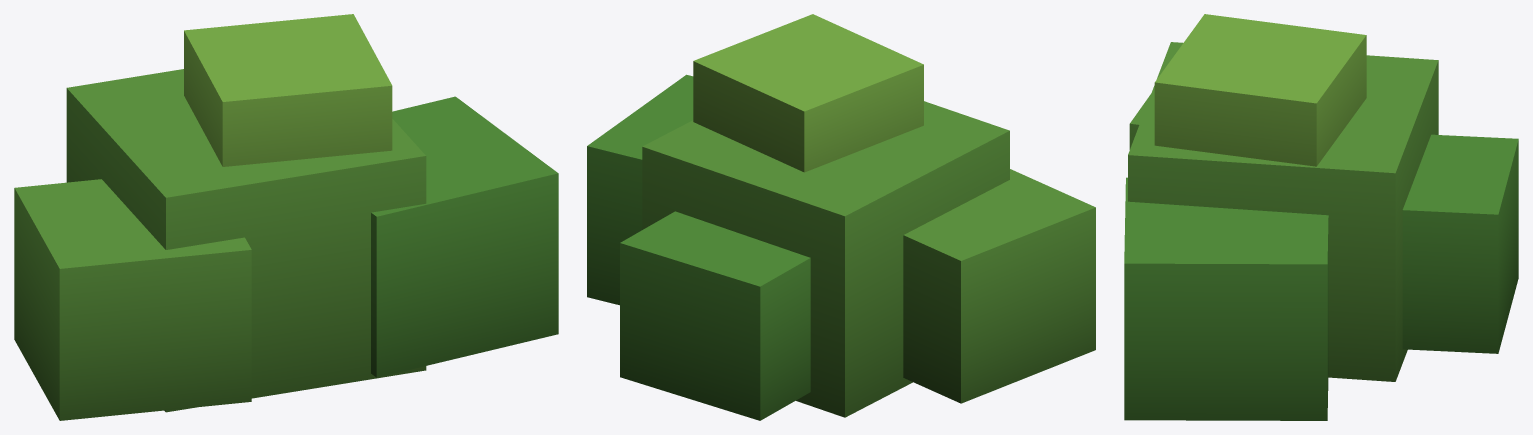
The model's file is B08_bush_round.glb.
The picture shows the model from 3 angles, left to right: view 1: azimuth 30°, elevation 25°; view 2: azimuth 150°, elevation 25°; view 3: azimuth 270°, elevation 25°; orthographic projection. The views are drawn at different scales.
Visible parts, largest first — view 1: B08_bush_round; view 2: B08_bush_round; view 3: B08_bush_round.
Part boxes in pixels (left/top/right/bottom): B08_bush_round: left=14, top=14, right=558, bottom=420; B08_bush_round: left=587, top=14, right=1095, bottom=420; B08_bush_round: left=1124, top=14, right=1518, bottom=420.
Bounding box in the file's own units: 2.33 × 1.33 × 1.75.
